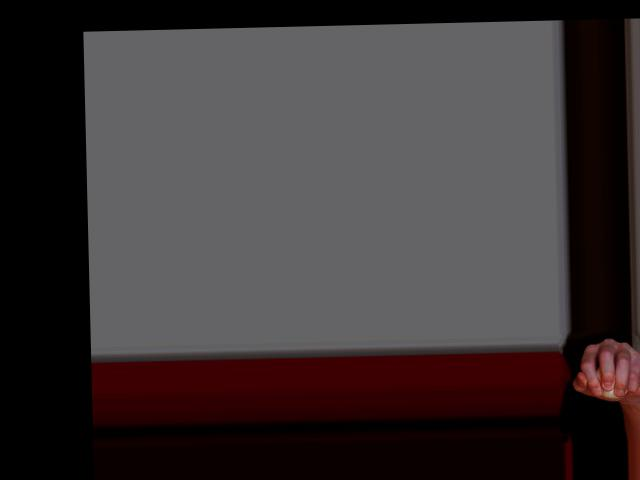egg: (591, 364, 627, 399)
